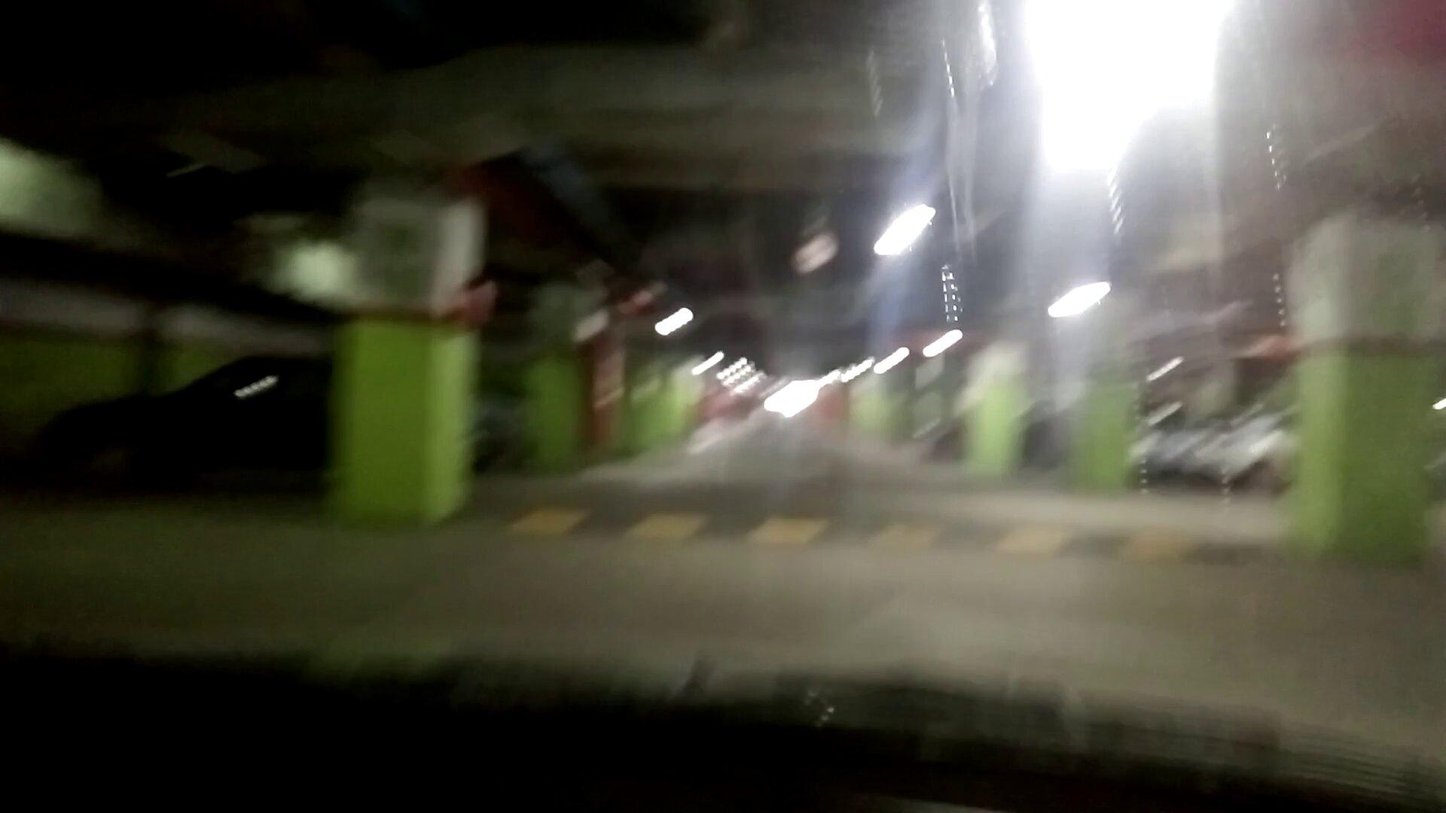Bump: (495, 501, 1286, 568)
